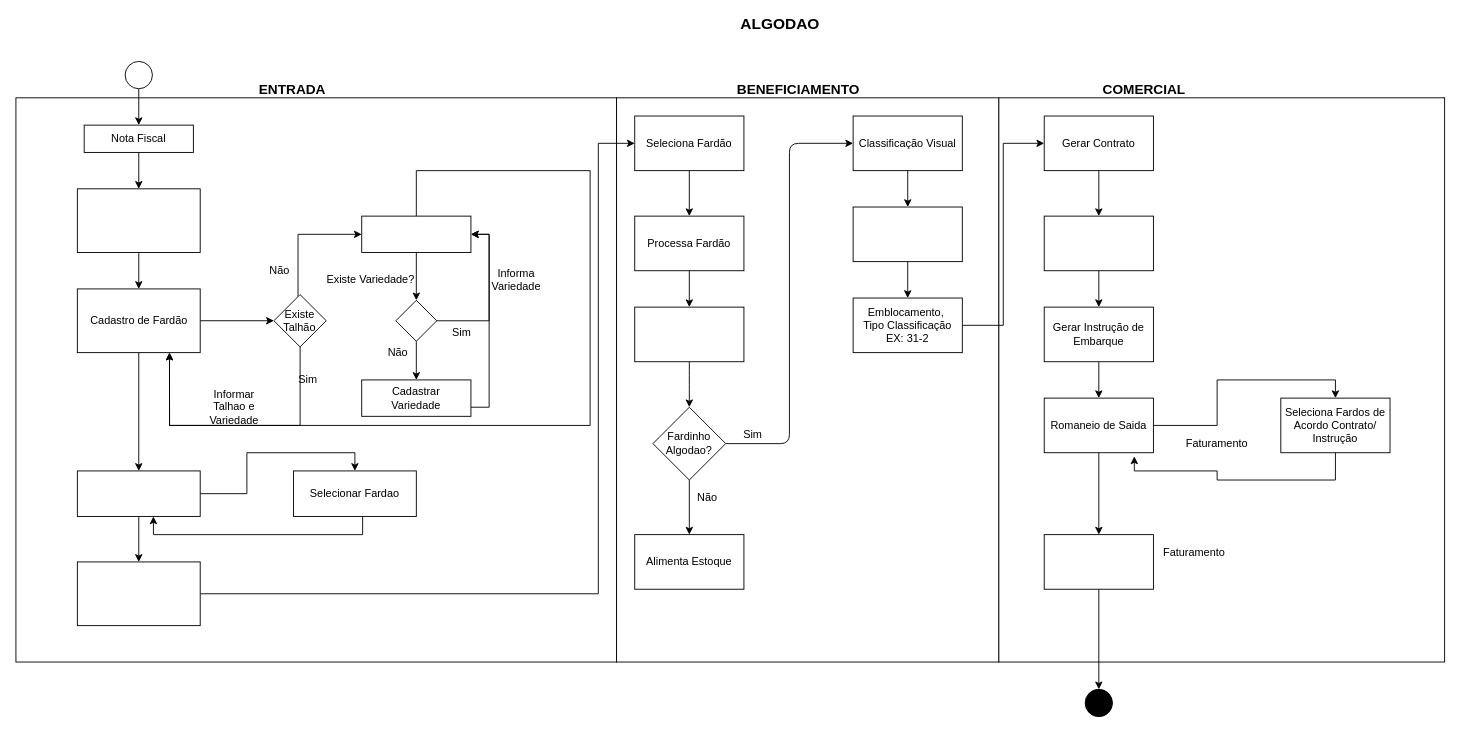
This 1461x733 diagram has some shape labels left out. The box of each missing label's shape, as (x1, y1, x2, y2) in pixels:
Cadastrar Talhão: (361, 215, 471, 253)
Classificação Laboratorio: (852, 206, 962, 262)
Documento de Entrada - Tipo = "Beneficiamento: (76, 188, 200, 253)
Emissão de Nota Fiscal: (1043, 534, 1153, 589)
Finalizar Romaneio Liberar Beneficiamento Fardão: (76, 561, 200, 626)
Gera Sub Produtos, Fardinho Algodao, Caroço, Fribrilha: (634, 306, 744, 362)
Gerar Reserva Blocos: (1043, 215, 1153, 271)
Romaneio de Entrada: (76, 470, 200, 516)
